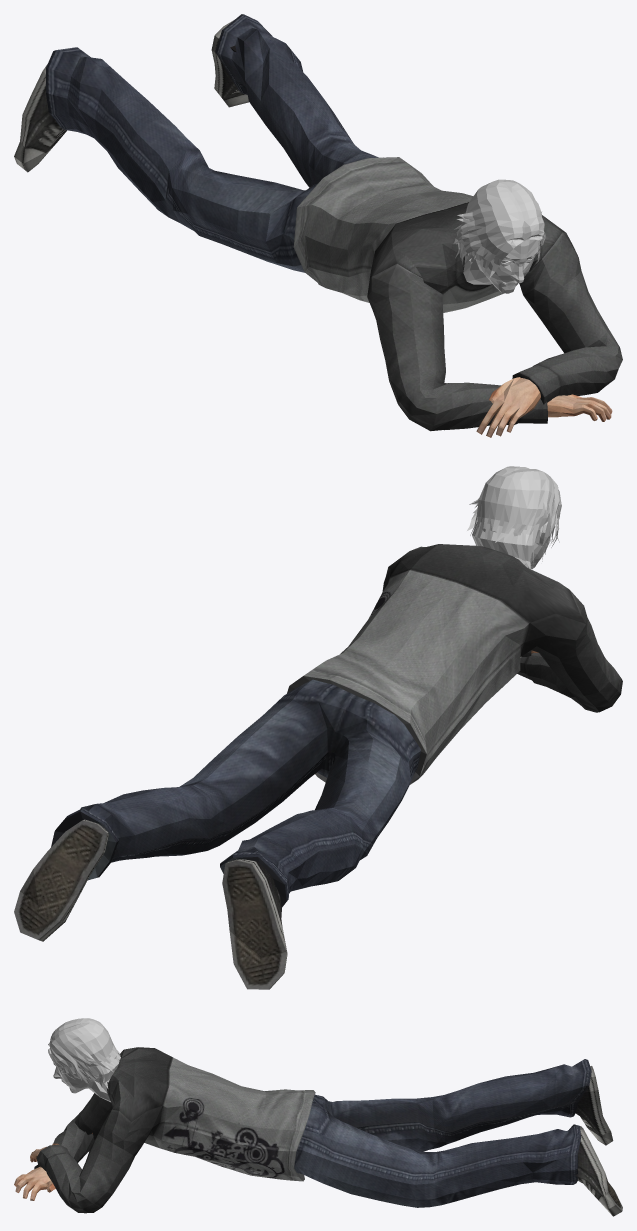
File: lyingDownMale02.obj
The picture shows the model from 3 angles, top to bottom: view 1: azimuth 30°, elevation 25°; view 2: azimuth 150°, elevation 25°; view 3: azimuth 270°, elevation 25°; orthographic projection. The views are drawn at different scales.
Parts seen in each view (by area): view 1: Object01; view 2: Object01; view 3: Object01.
Boxes of the visible parts, x1,y1,x2,y2 form: Object01: (14,14,622,437); Object01: (14,466,622,989); Object01: (14,1018,622,1216).
Size of the model in its own units: 67.12 by 56.7 by 194.
